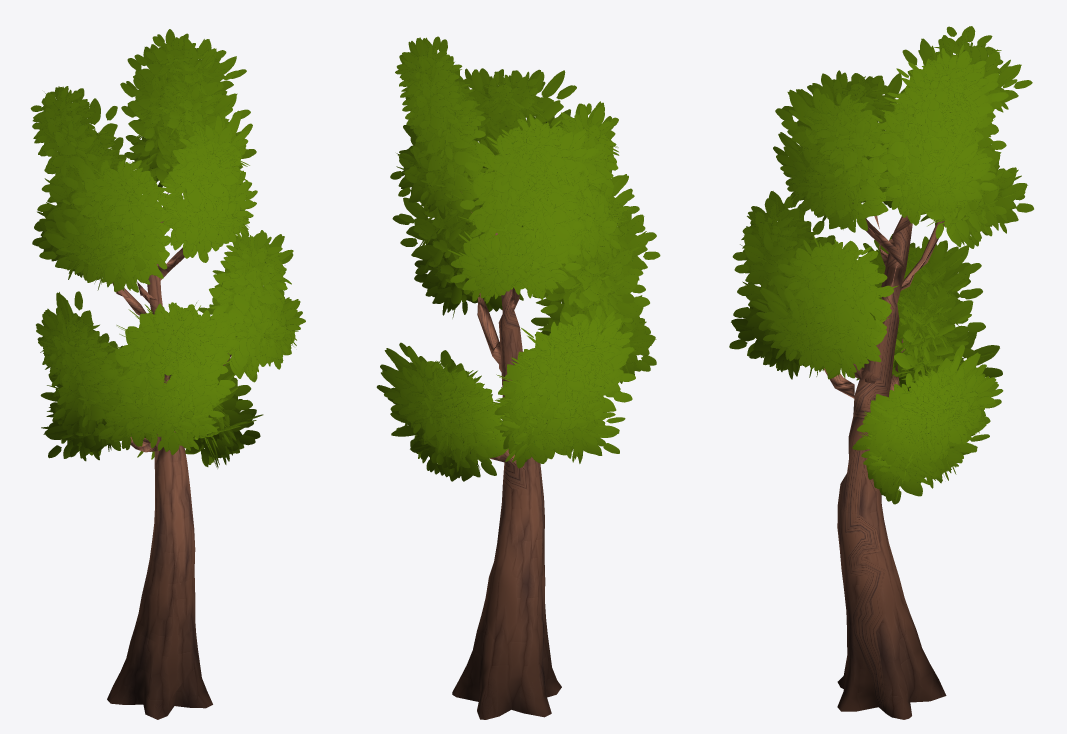
The model's file is tree-broadleafB.glb.
3 views of the same model, side by side, from view 1: azimuth 30°, elevation 25°; view 2: azimuth 150°, elevation 25°; view 3: azimuth 270°, elevation 25° (orthographic). The views are drawn at different scales.
Parts seen in each view (by area): view 1: CommonTree_3; view 2: CommonTree_3; view 3: CommonTree_3.
Boxes of the visible parts, x1,y1,x2,y2 form: CommonTree_3: (30, 29, 305, 719); CommonTree_3: (376, 36, 660, 719); CommonTree_3: (729, 26, 1033, 719).
Size of the model in its own units: 4.06 by 9.43 by 4.24.
Materials: 2 (2 with a texture image).
